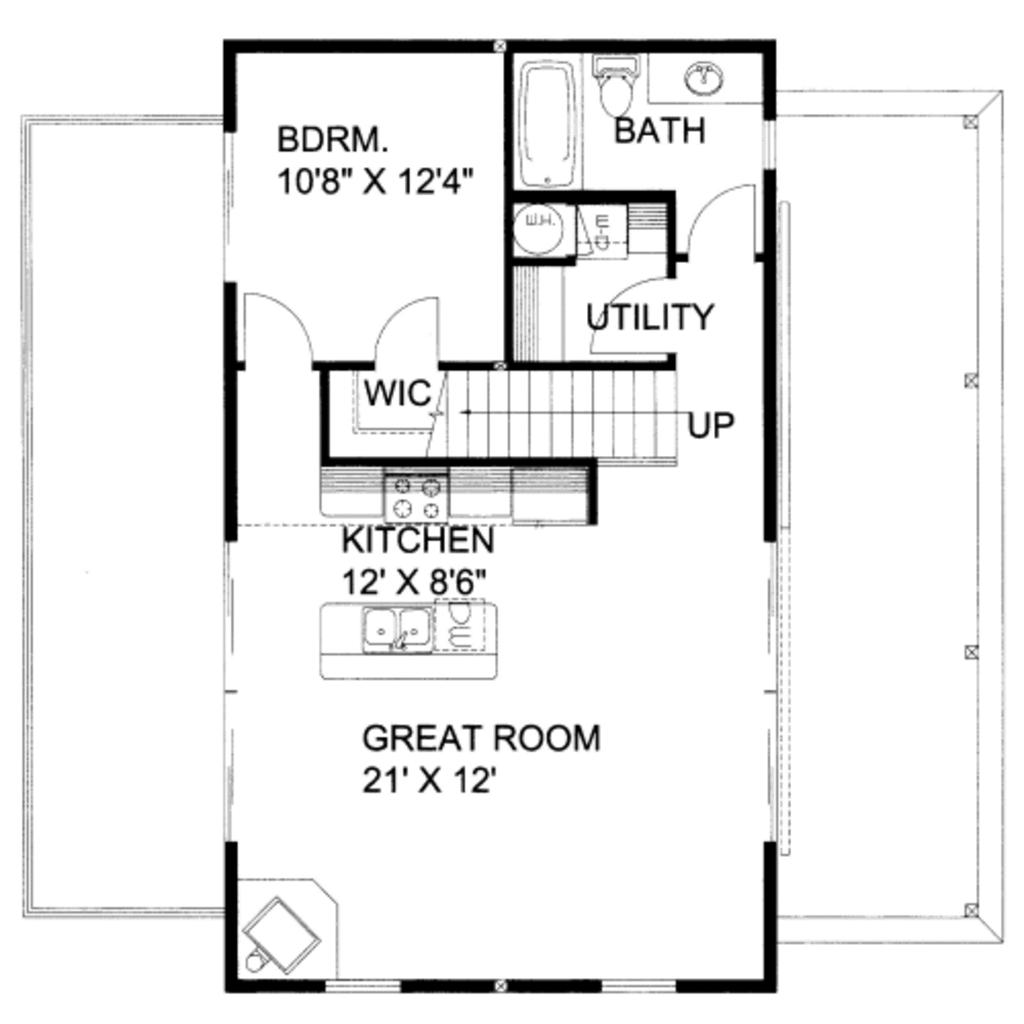door: (569, 274, 680, 361), (239, 278, 317, 372), (689, 183, 764, 258), (373, 291, 447, 366)
large_sink: (589, 53, 645, 124)
small_sink: (658, 50, 742, 107)
stairs: (370, 360, 683, 467)
tub: (511, 46, 588, 194)
twin_sink: (361, 597, 436, 650)
window: (324, 977, 416, 997), (598, 975, 678, 997), (763, 119, 784, 169)
